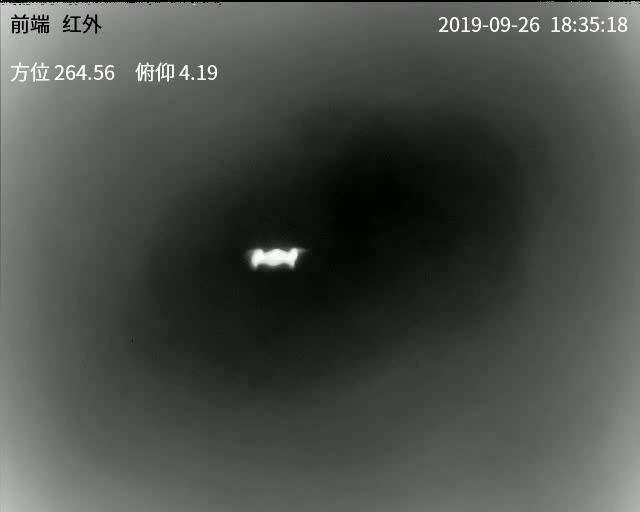DRONE: (249, 246, 301, 269)
